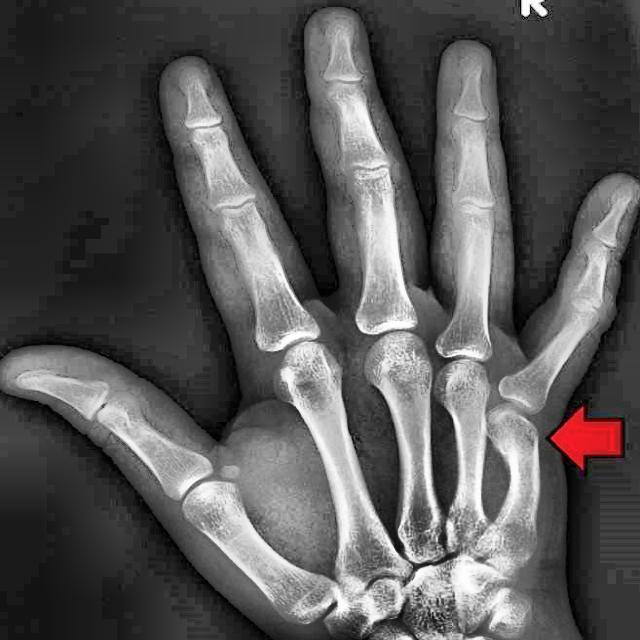fracture: (494, 418, 541, 458)
